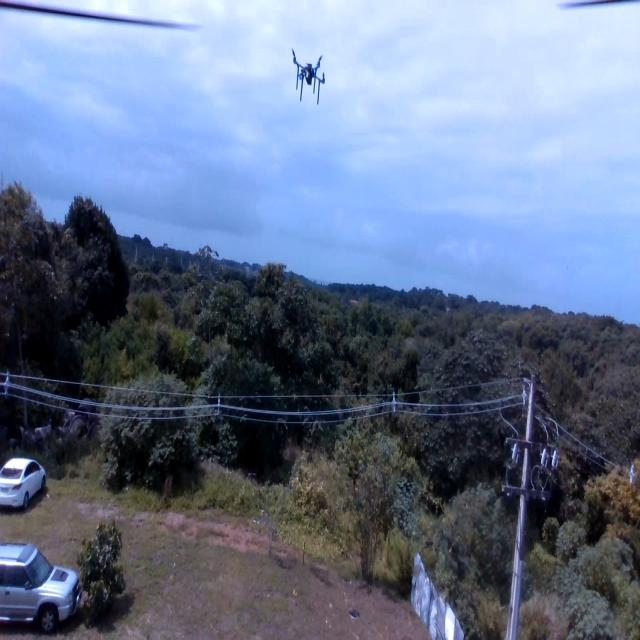-uav-: (286, 31, 330, 110)
